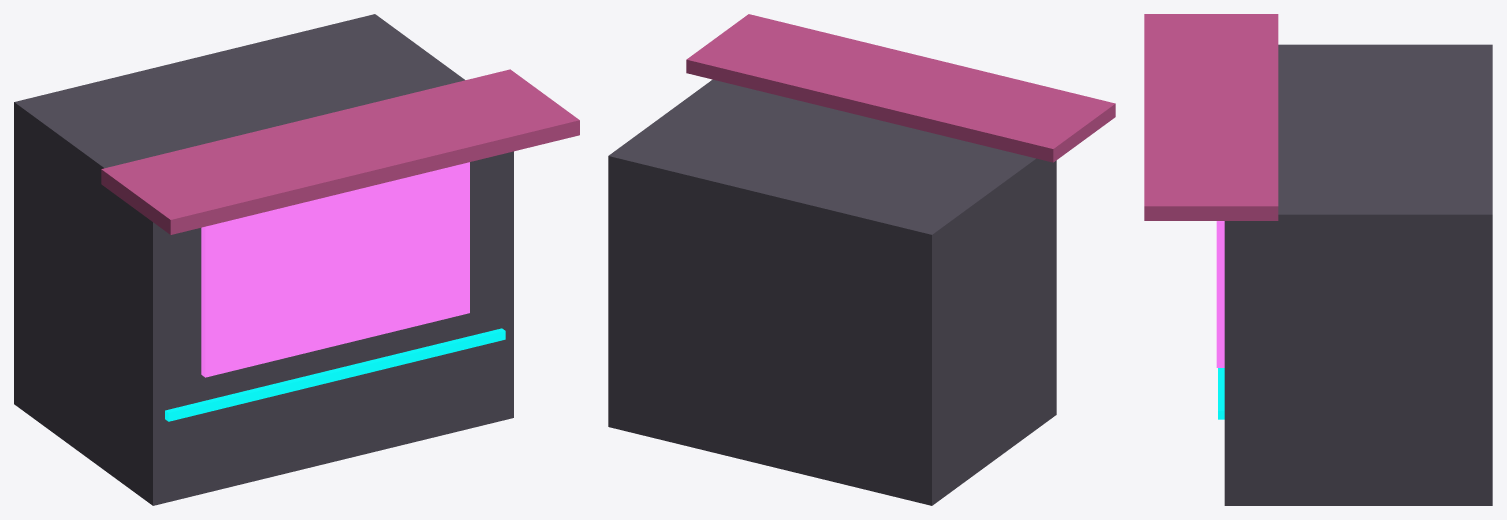
File: kiosk.glb
The picture shows the model from 3 angles, left to right: view 1: azimuth 30°, elevation 25°; view 2: azimuth 150°, elevation 25°; view 3: azimuth 270°, elevation 25°; orthographic projection. The views are drawn at different scales.
Bounding box in the file's own units: 3.4 × 2.56 × 2.6.
